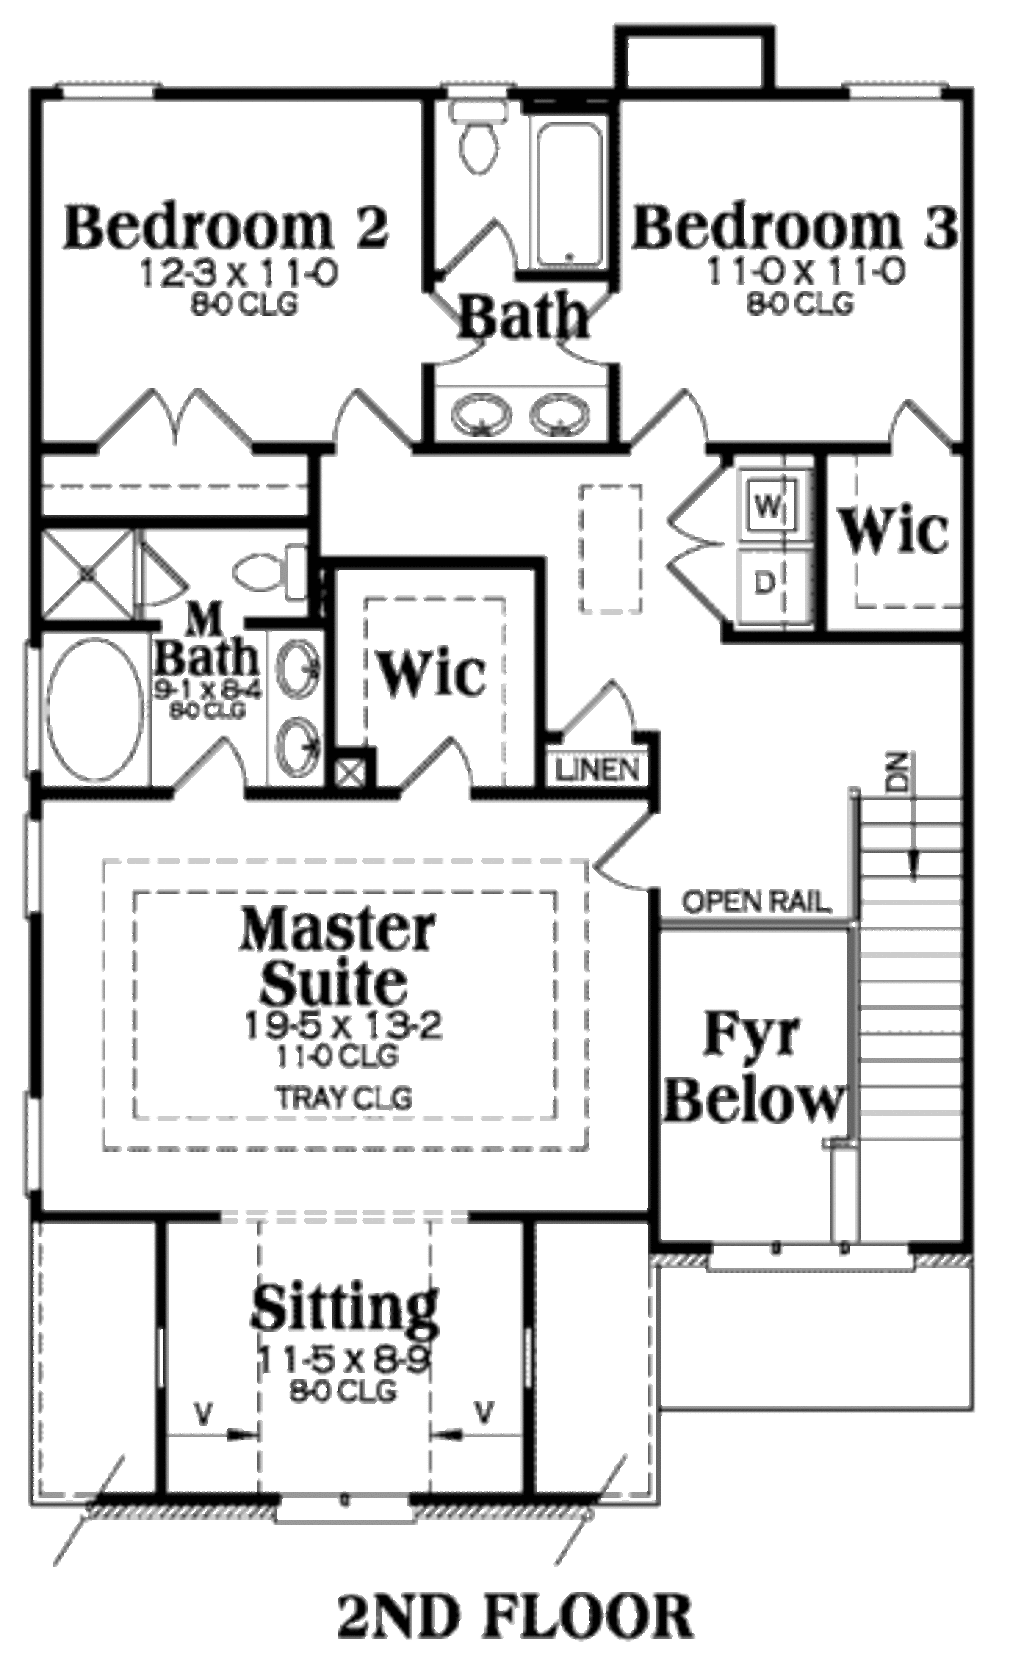door: (95, 377, 272, 472), (656, 459, 746, 628), (869, 390, 974, 472), (318, 380, 411, 467), (543, 677, 662, 739), (164, 731, 249, 816), (597, 803, 674, 895), (431, 205, 526, 276), (632, 387, 713, 457), (403, 739, 473, 808)
large_sink: (426, 69, 508, 182), (225, 516, 314, 610)
small_sink: (254, 628, 336, 798), (431, 377, 597, 454)
stairs: (838, 782, 956, 1254)
tub: (26, 618, 154, 798), (526, 110, 610, 280)
window: (272, 1477, 415, 1536), (9, 803, 59, 918), (46, 74, 177, 117), (838, 64, 946, 116), (18, 1092, 66, 1205)
